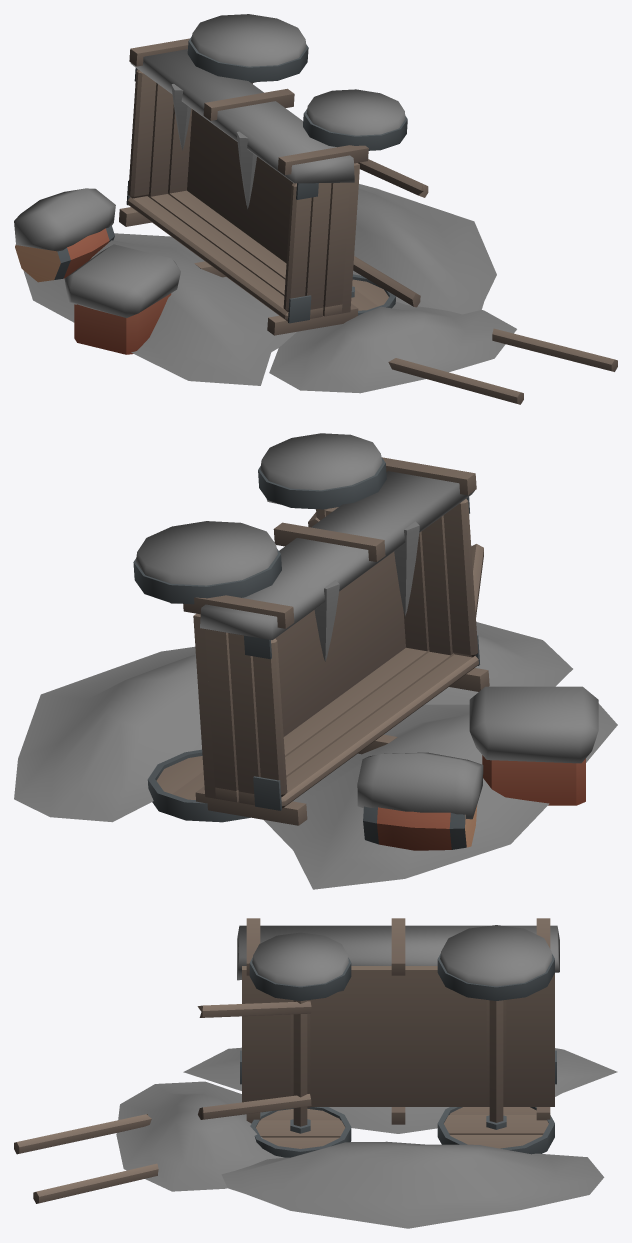
The model's file is cart_frozen_C_lavender.fbx.
The picture shows the model from 3 angles, top to bottom: view 1: azimuth 30°, elevation 25°; view 2: azimuth 150°, elevation 25°; view 3: azimuth 270°, elevation 25°; orthographic projection. The views are drawn at different scales.
Parts seen in each view (by area): view 1: cart_frozen_C_lavender; view 2: cart_frozen_C_lavender; view 3: cart_frozen_C_lavender.
Boxes of the visible parts, x1,y1,x2,y2 form: cart_frozen_C_lavender: (14,14,617,404); cart_frozen_C_lavender: (14,433,617,889); cart_frozen_C_lavender: (14,918,617,1228).
Bounding box in the file's own units: 2.47 × 1.13 × 3.08.
